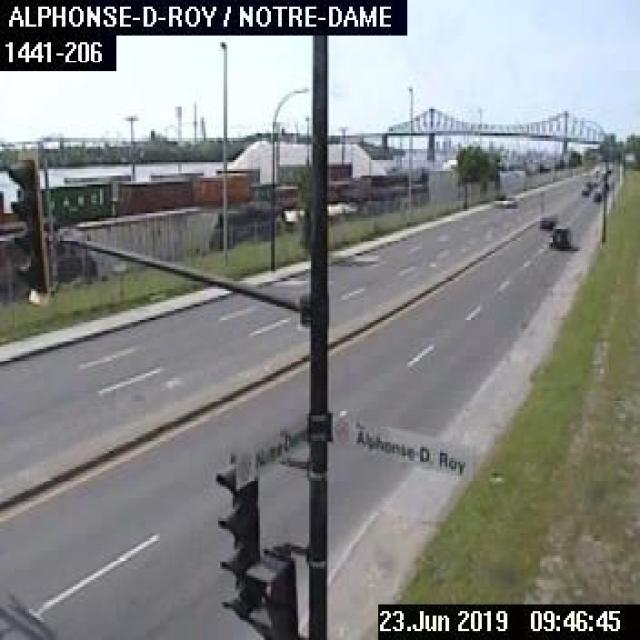vehicle: (550, 225, 569, 247), (493, 191, 514, 209), (590, 186, 605, 203), (539, 213, 554, 229), (579, 182, 591, 195)
